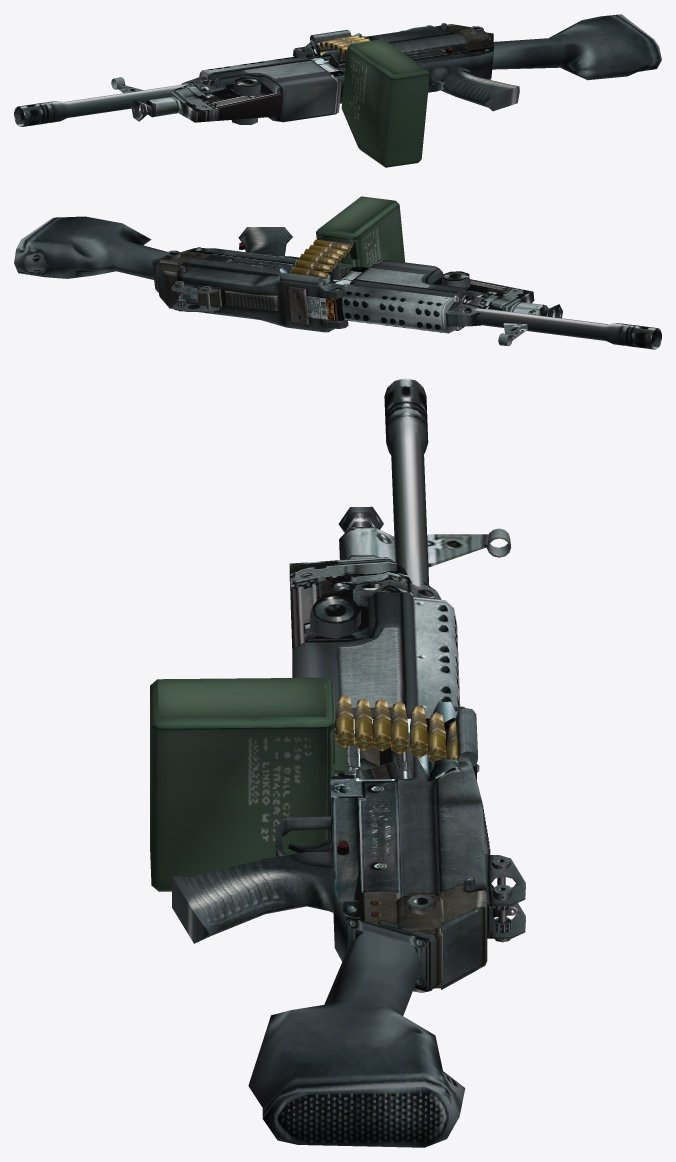
3 views of the same model, one above another, from view 1: azimuth 30°, elevation 25°; view 2: azimuth 150°, elevation 25°; view 3: azimuth 270°, elevation 25° (orthographic). The views are drawn at different scales.
Visible parts, largest first — view 1: _m249_1st; view 2: _m249_1st; view 3: _m249_1st.
Part boxes in pixels (bbox=[...]): _m249_1st: bbox=[14, 14, 661, 167]; _m249_1st: bbox=[14, 196, 661, 349]; _m249_1st: bbox=[150, 378, 525, 1147].
Size of the model in its own units: 1.11 by 0.1648 by 0.2969.
3 materials, 3 textured.
